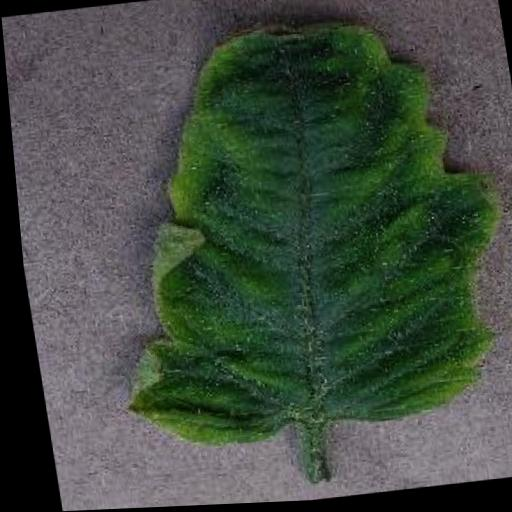Yellow Leaf Curl Virus: (62, 0, 512, 461)
